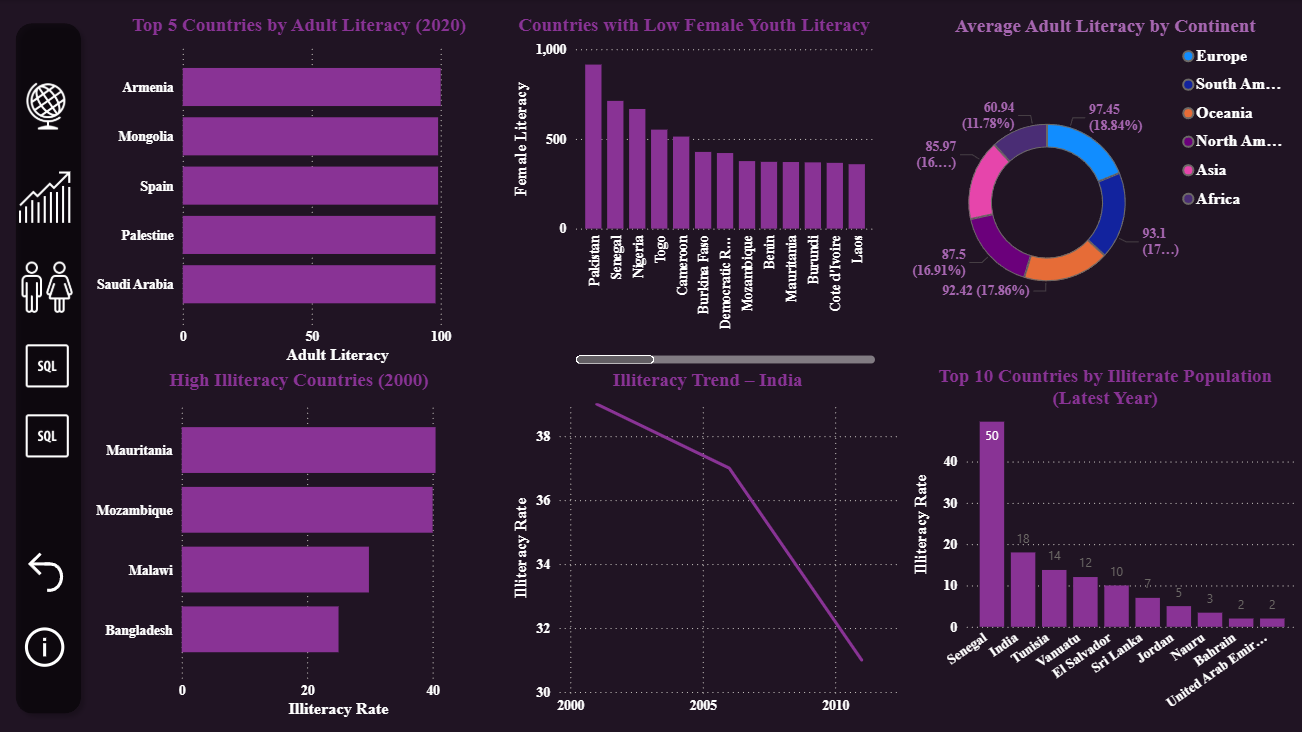

This screenshot's page, from the dashboard's own definition file:
{"tool":"powerbi","page":{"name":"Literacy & Illiteracy Insights","canvas":[1280,720],"ordinal":3},"visuals":[{"type":"shape","box":[7.4,14.7,82.2,695.7],"z":0},{"type":"image","box":[20.9,79.8,50,50],"z":1000},{"type":"image","box":[22.1,257.7,50.3,50.3],"z":2000},{"type":"image","box":[19.6,169.3,50.3,50.3],"z":3000},{"type":"actionButton","box":[19.6,611,50.3,50.3],"z":4000},{"type":"actionButton","box":[20.9,537.4,50.3,50.3],"z":5000},{"type":"clusteredBarChart","title":"Top 5 Countries by Adult Literacy (2020)","fields":{"Category":["Q1.country"],"Y":["Sum(Q1.adult_literacy_rate)"]},"box":[89.6,14.7,409.8,348.5],"z":6000},{"type":"columnChart","title":"Countries with Low Female Youth Literacy","fields":{"Category":["Q2.country"],"Y":["Sum(Q2.youth_literacy_rate_F)"]},"box":[499.4,14.7,365.6,348.5],"z":7000},{"type":"donutChart","title":"Average Adult Literacy by Continent","fields":{"Category":["Q3.continent"],"Y":["Sum(Q3.avg_adult_literacy)"]},"box":[892,16,387.7,347.2],"z":8000},{"type":"clusteredBarChart","title":"High Illiteracy Countries (2000)","fields":{"Category":["Q4.country"],"Y":["Avg(Q4.illiteracy_rate)"]},"box":[89.6,363.2,409.8,347.2],"z":9000},{"type":"lineChart","title":"Illiteracy Trend – India","fields":{"Category":["Q5.year"],"Y":["Sum(Q5.illiteracy_rate)"]},"box":[499.4,363.2,392.6,347.2],"z":10000},{"type":"clusteredColumnChart","title":"Top 10 Countries by Illiterate Population (Latest Year)","fields":{"Category":["Q6.country"],"Y":["Sum(Q6.illiteracy_rate)"]},"box":[892,359.5,387.7,350.9],"z":11000},{"type":"image","box":[22.1,335,50.3,50.3],"z":11001},{"type":"image","box":[22.1,403.7,50.3,50.3],"z":11002}]}

Visuals, with their boxes on the page's 1280x720 design canvas (x1, y1, x2, y2). These are canvas units, not pixel positions in the 1302x732 screenshot, which may show the page scaled, cropped or inside an application window:
shape: x1=7, y1=15, x2=90, y2=710
image: x1=21, y1=80, x2=71, y2=130
image: x1=22, y1=258, x2=72, y2=308
image: x1=20, y1=169, x2=70, y2=220
actionButton: x1=20, y1=611, x2=70, y2=661
actionButton: x1=21, y1=537, x2=71, y2=588
"Top 5 Countries by Adult Literacy (2020)" clusteredBarChart: x1=90, y1=15, x2=499, y2=363
"Countries with Low Female Youth Literacy" columnChart: x1=499, y1=15, x2=865, y2=363
"Average Adult Literacy by Continent" donutChart: x1=892, y1=16, x2=1280, y2=363
"High Illiteracy Countries (2000)" clusteredBarChart: x1=90, y1=363, x2=499, y2=710
"Illiteracy Trend – India" lineChart: x1=499, y1=363, x2=892, y2=710
"Top 10 Countries by Illiterate Population (Latest Year)" clusteredColumnChart: x1=892, y1=360, x2=1280, y2=710
image: x1=22, y1=335, x2=72, y2=385
image: x1=22, y1=404, x2=72, y2=454
